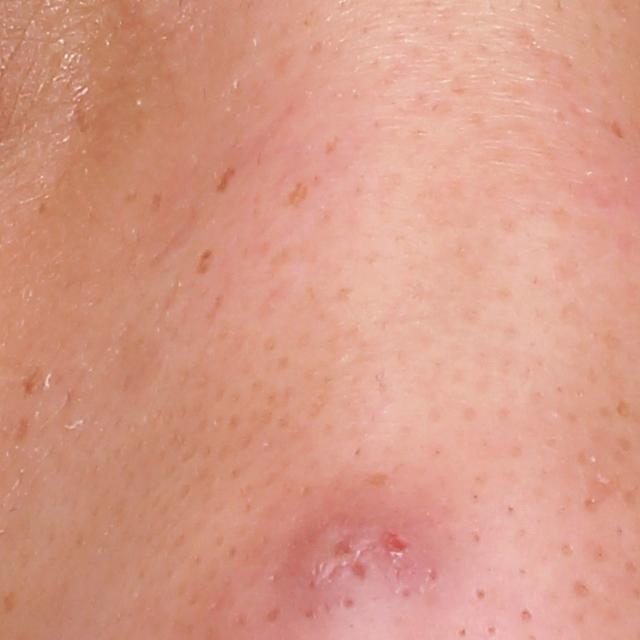melasma: (19, 364, 45, 402), (210, 162, 235, 199), (282, 178, 310, 209), (195, 243, 214, 277), (1, 590, 18, 615), (150, 188, 165, 216), (14, 419, 31, 440)
